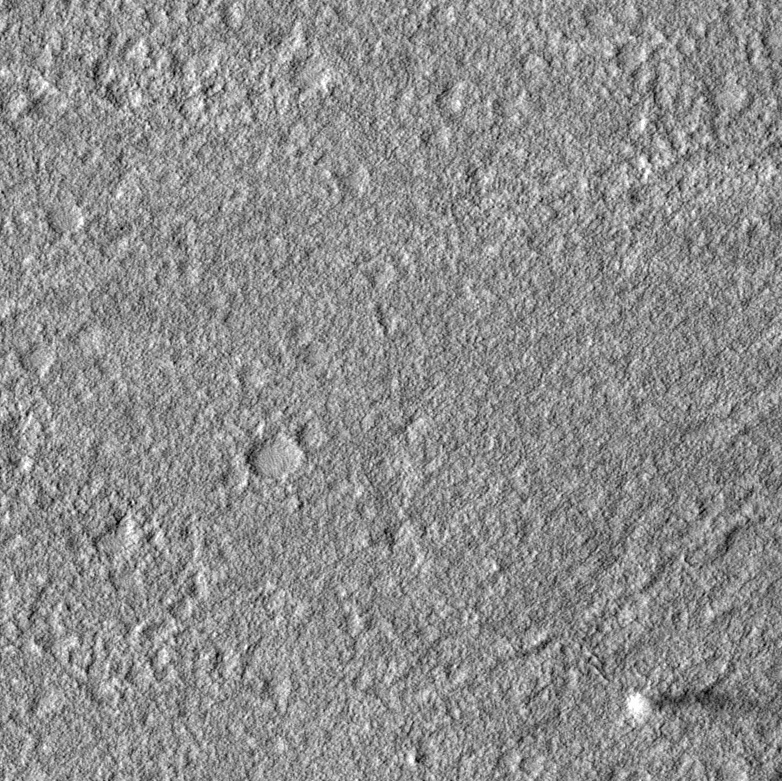dust_devil: (623, 683, 782, 724)
